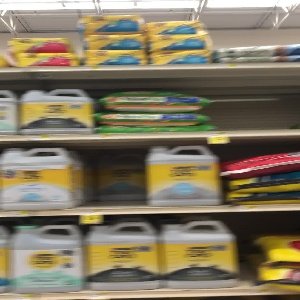void: (205, 66, 300, 131), (77, 136, 146, 210)
